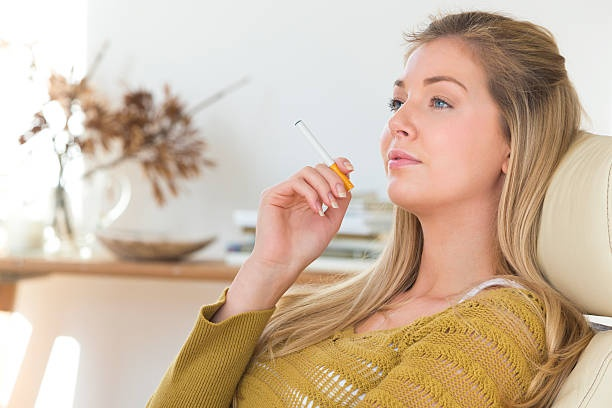sigaretta: (292, 119, 357, 196)
